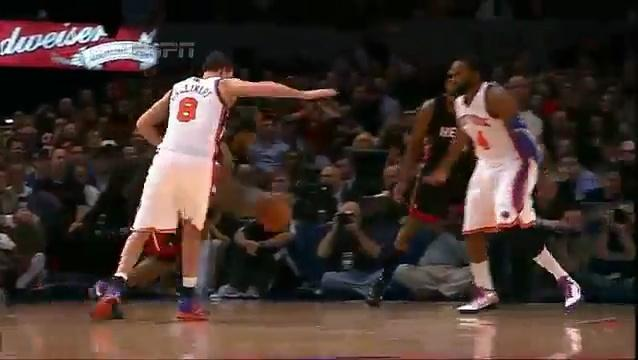Ball: (260, 199, 291, 230)
Person: (92, 49, 251, 336), (450, 56, 587, 317), (367, 68, 470, 316)
